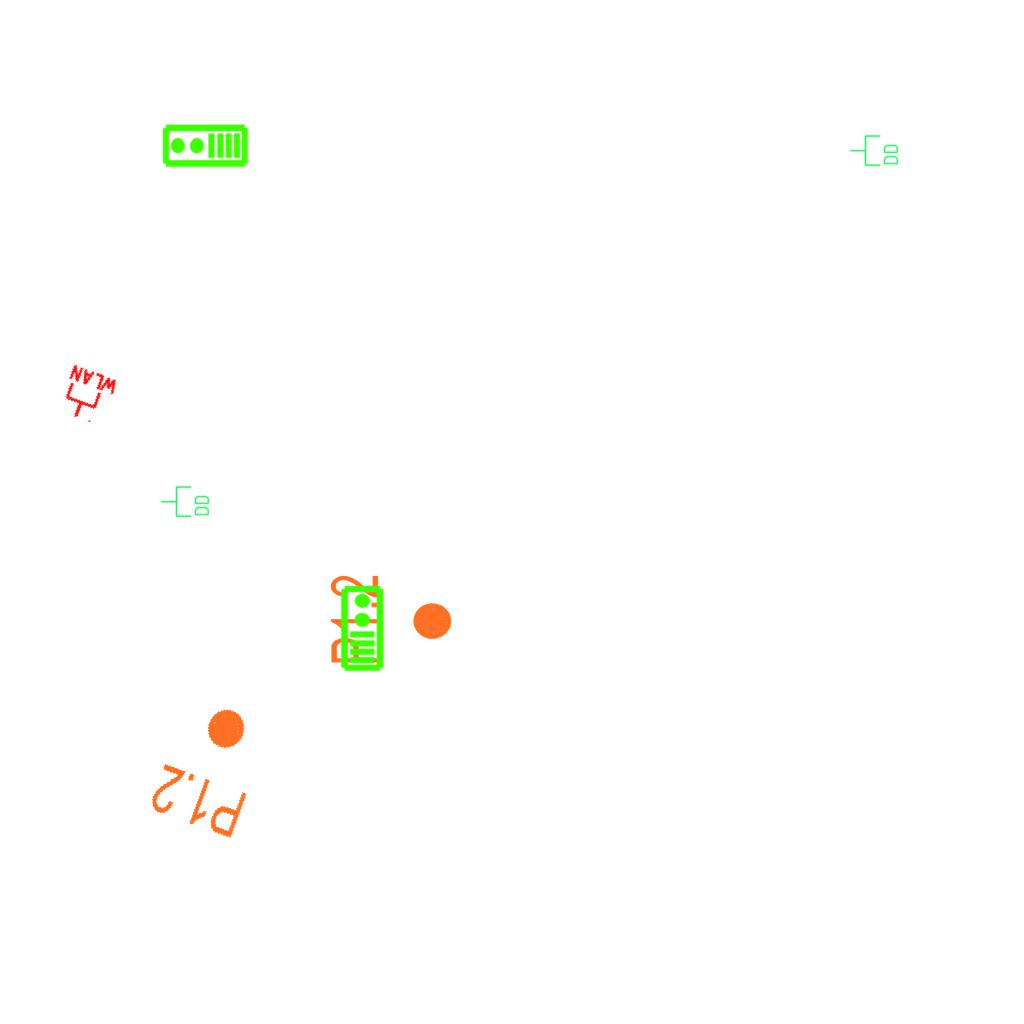Datenanschluss_zweifach: (849, 134, 900, 168), (160, 485, 211, 519)
Downlight_LED_Einbauleuchten_Flur: (144, 690, 277, 844), (327, 573, 455, 666)
Gegensprechanlage_mit_Video: (161, 123, 249, 170), (338, 584, 385, 672)
WLAN: (54, 362, 122, 430)
